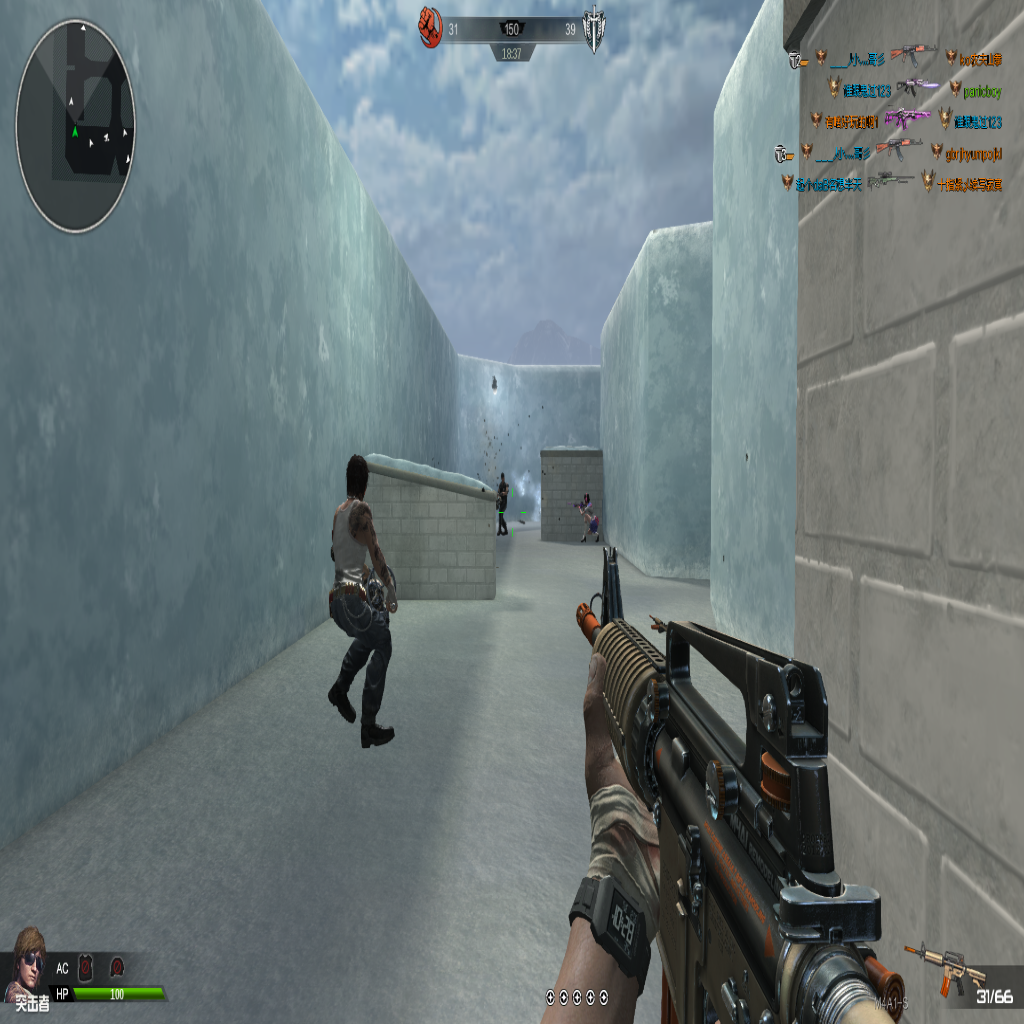ct: (495, 470, 510, 538)
tt: (326, 458, 397, 746)
